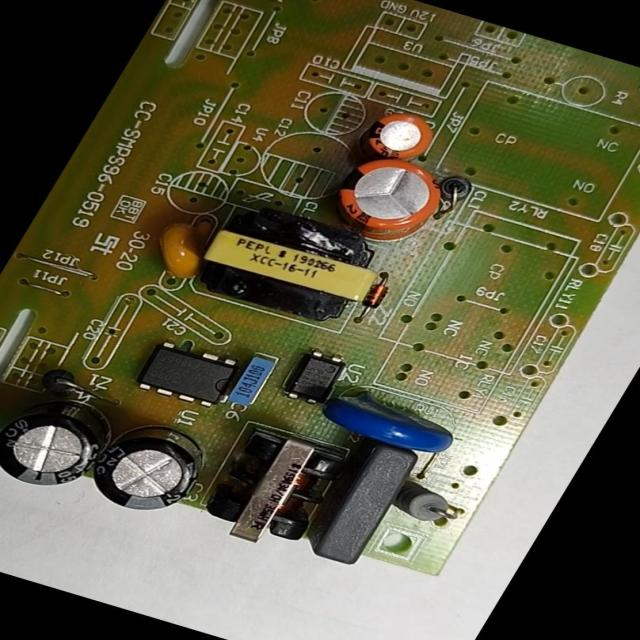Cap1: (311, 144, 462, 254)
Cap2: (348, 103, 448, 176)
Cap3: (79, 410, 235, 528)
Cap4: (0, 380, 133, 502)
MOSFET: (125, 335, 250, 414)
Mov: (306, 379, 471, 465)
Resistor: (389, 476, 474, 532)
Transformer: (172, 194, 399, 338), (184, 421, 360, 559)
